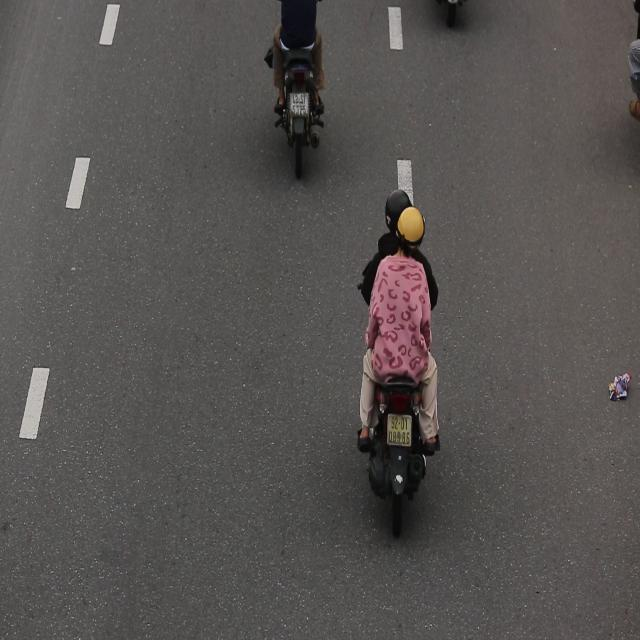motorbike: (348, 180, 447, 546)
